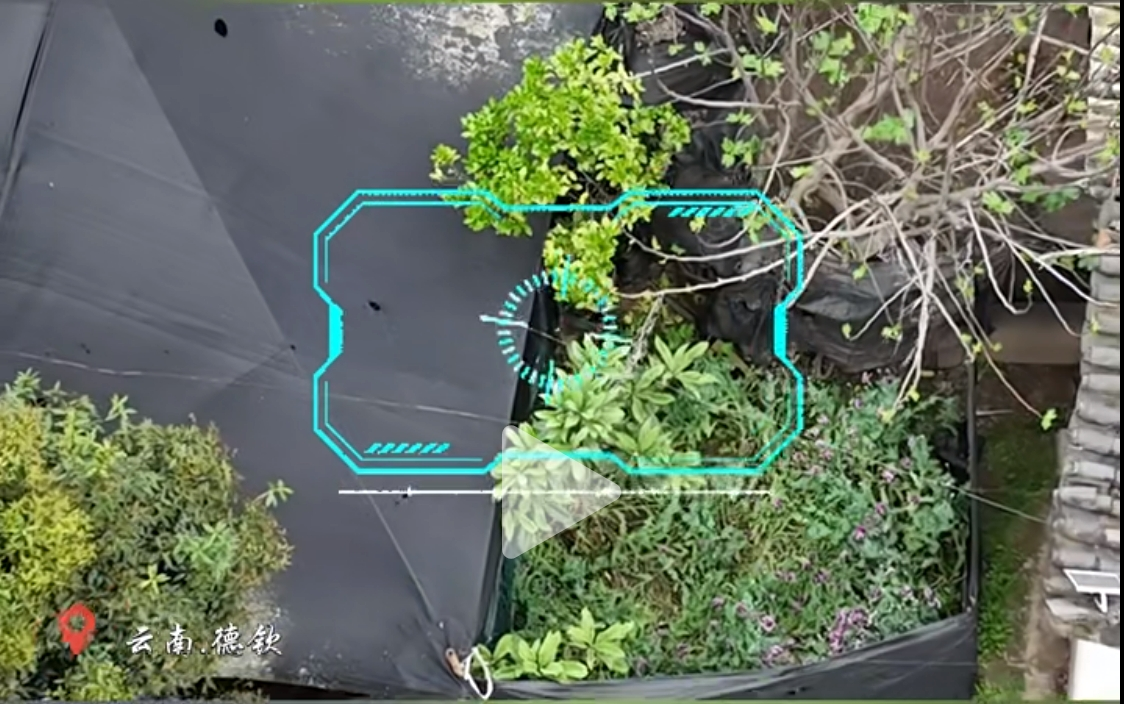Poppy: (664, 380, 965, 656)
